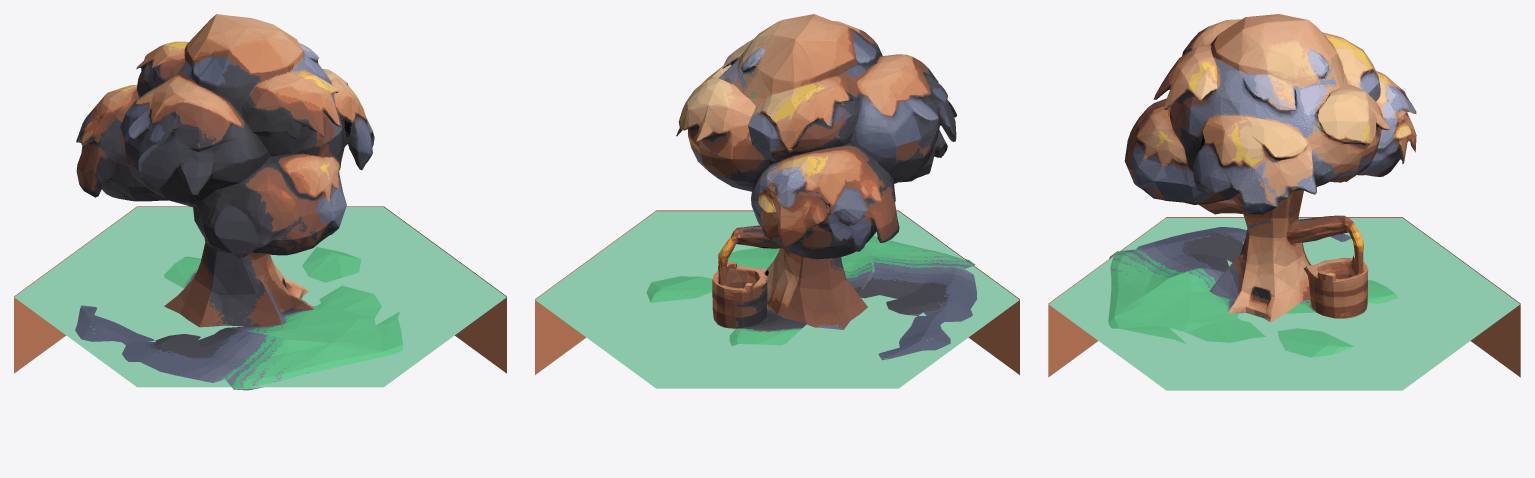
File: syrup-tree.glb
3 renders of one model, left to right at view 1: azimuth 30°, elevation 25°; view 2: azimuth 150°, elevation 25°; view 3: azimuth 270°, elevation 25°, orthographic. The views are drawn at different scales.
Visible parts, largest first — view 1: world, hexBase; view 2: world, hexBase; view 3: world, hexBase.
Boxes of the visible parts, bbox=[...] form: world: bbox=[75, 14, 403, 390]; hexBase: bbox=[14, 206, 506, 387]; world: bbox=[646, 14, 976, 360]; hexBase: bbox=[535, 210, 1019, 388]; world: bbox=[1108, 14, 1416, 357]; hexBase: bbox=[1048, 217, 1520, 390].
Bounding box in the file's own units: 1 × 0.9284 × 1.15.
Materials: 3 (1 with a texture image).
